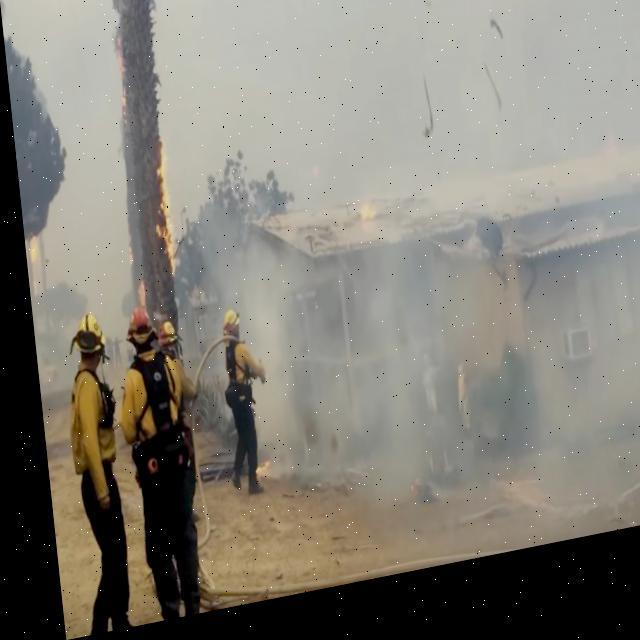Fire: (145, 132, 173, 276), (350, 213, 372, 240), (22, 234, 35, 264), (128, 282, 140, 314), (246, 462, 258, 484)
